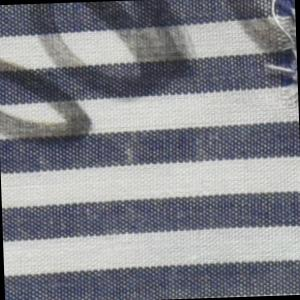Damage: (266, 1, 299, 110)
Stain: (1, 1, 207, 147), (226, 1, 287, 75)
